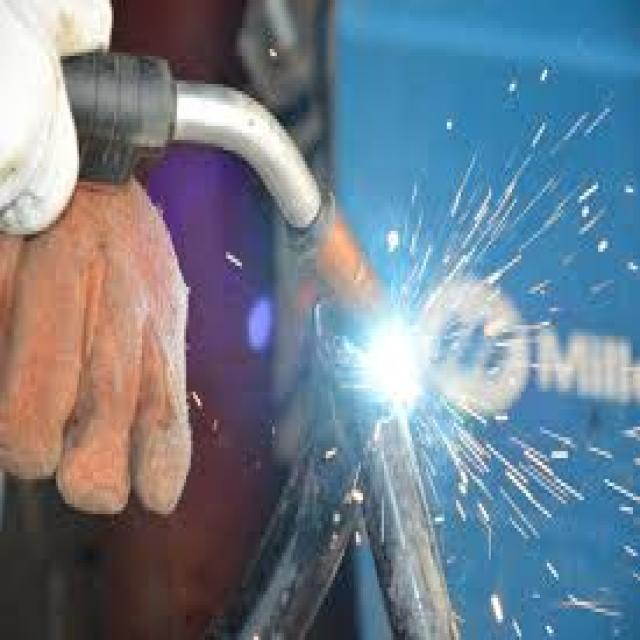welding: (372, 318, 418, 408)
